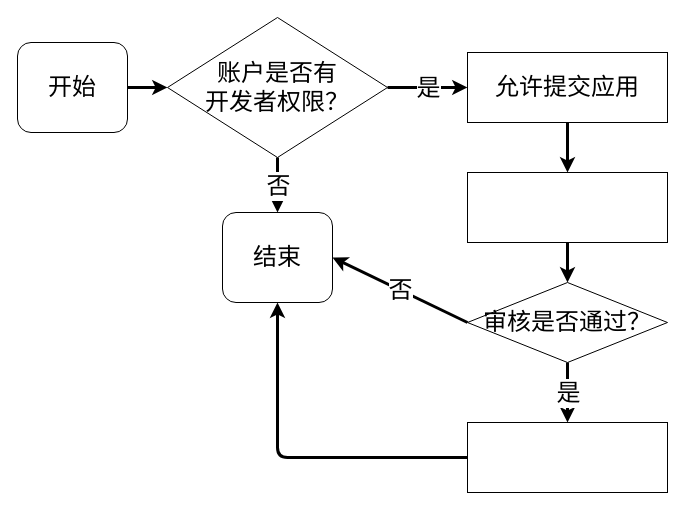
Image size: 685x510. Some labels were removed from this diagram. Here are the shapes that lost their labels. From the top down, the centre of each, then its label:
At (567,207): "提交并人工审核".
At (567,457): "允许上架 第三方商店".
